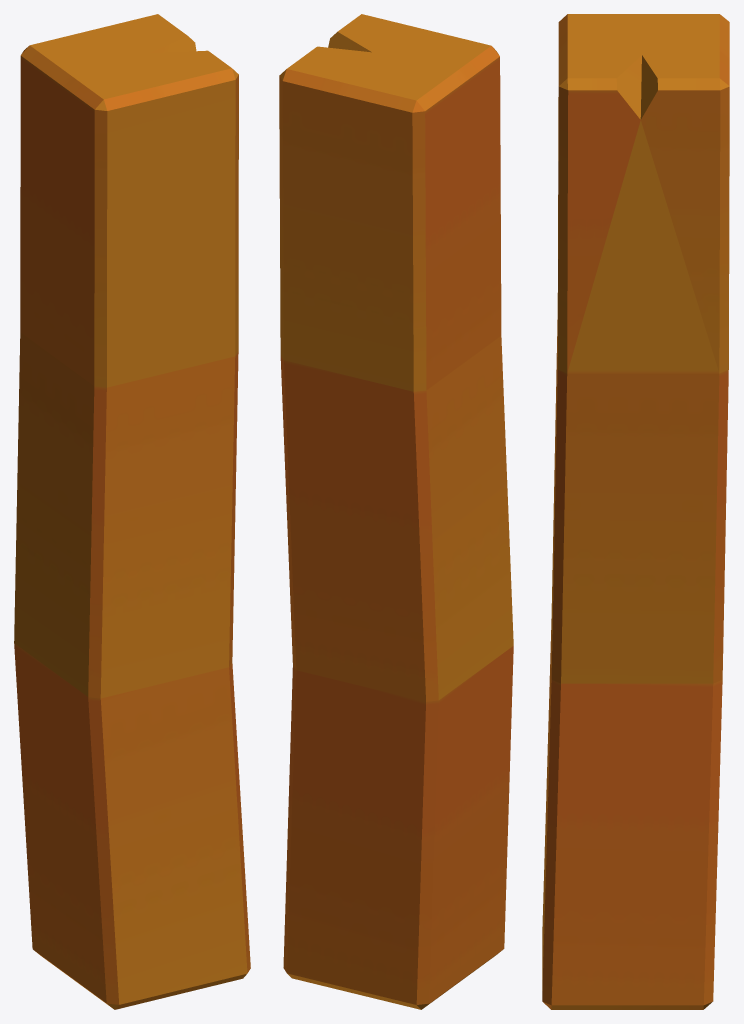
The model's file is fence_post_1.gltf.
The picture shows the model from 3 angles, left to right: view 1: azimuth 30°, elevation 25°; view 2: azimuth 150°, elevation 25°; view 3: azimuth 270°, elevation 25°; orthographic projection. The views are drawn at different scales.
Visible parts, largest first — view 1: Cube.001; view 2: Cube.001; view 3: Cube.001.
Boxes of the visible parts, x1,y1,x2,y2 form: Cube.001: [14, 14, 250, 1009]; Cube.001: [279, 14, 513, 1009]; Cube.001: [542, 14, 729, 1009].
Bounding box in the file's own units: 0.4386 × 2.4 × 0.4387.
Materials: 1 (1 with a texture image).
